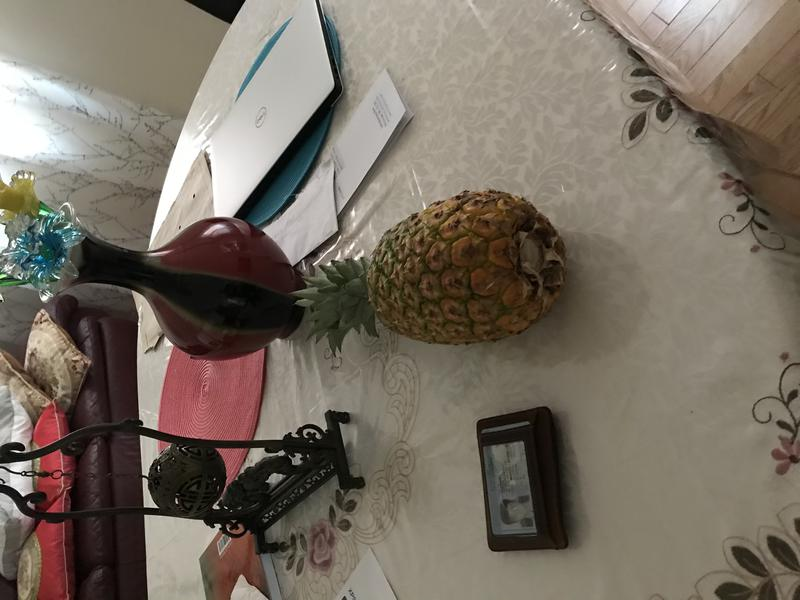pineapple: (280, 182, 574, 354)
